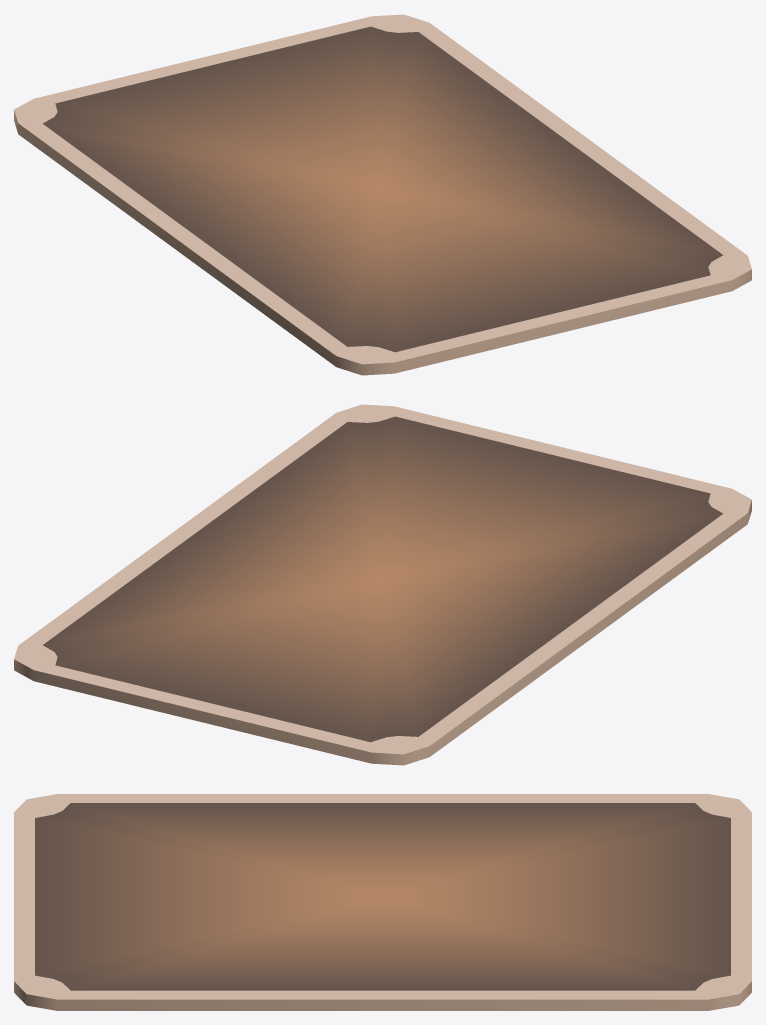
The model's file is TarotCard2.fbx.
3 views of the same model, one above another, from view 1: azimuth 30°, elevation 25°; view 2: azimuth 150°, elevation 25°; view 3: azimuth 270°, elevation 25° (orthographic). The views are drawn at different scales.
Parts seen in each view (by area): view 1: TarotCard2; view 2: TarotCard2; view 3: TarotCard2.
Part boxes in pixels (bbox=[...]): TarotCard2: bbox=[14, 14, 751, 375]; TarotCard2: bbox=[14, 404, 751, 765]; TarotCard2: bbox=[14, 794, 751, 1010].
Size of the model in its own units: 5.8 by 0.15 by 8.8.
